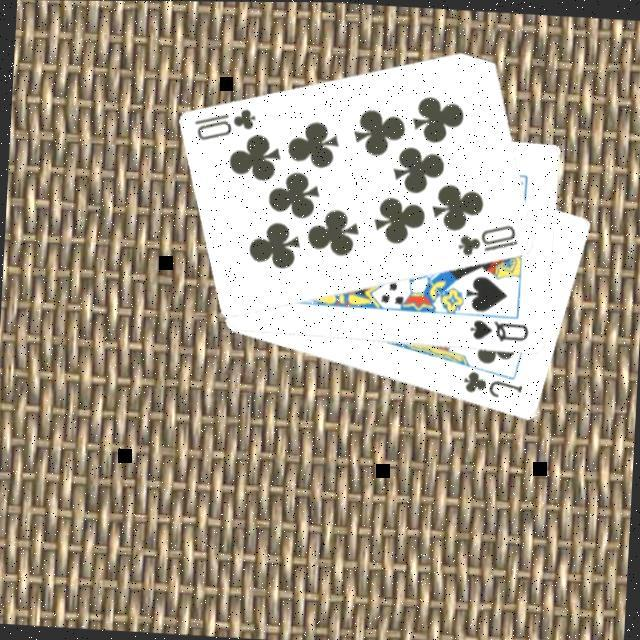10C: (191, 104, 261, 149), (455, 221, 524, 264)
JC: (460, 369, 529, 404)
QS: (467, 318, 533, 348)
